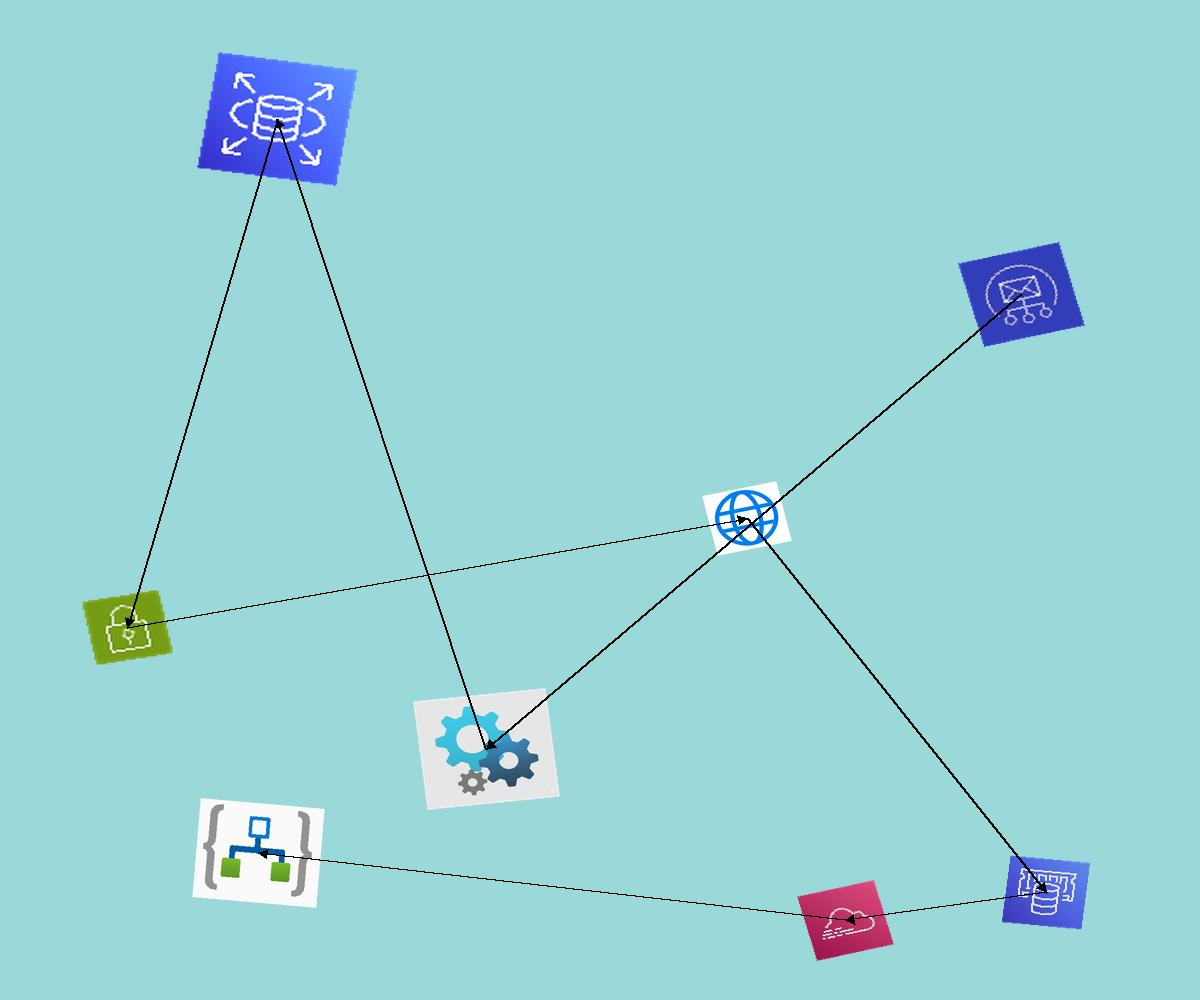AWS-CloudTrail: (797, 880, 894, 961)
AWS-ElastiCache: (1001, 855, 1091, 930)
AWS-Public-subnet: (81, 589, 174, 666)
AWS-RDS: (197, 52, 358, 186)
AWS-Simple-Email-Service: (958, 242, 1085, 347)
Azure_api: (413, 688, 560, 810)
Azure_http: (702, 481, 792, 556)
Azure_integration-204-Logic-Apps: (192, 798, 325, 908)
